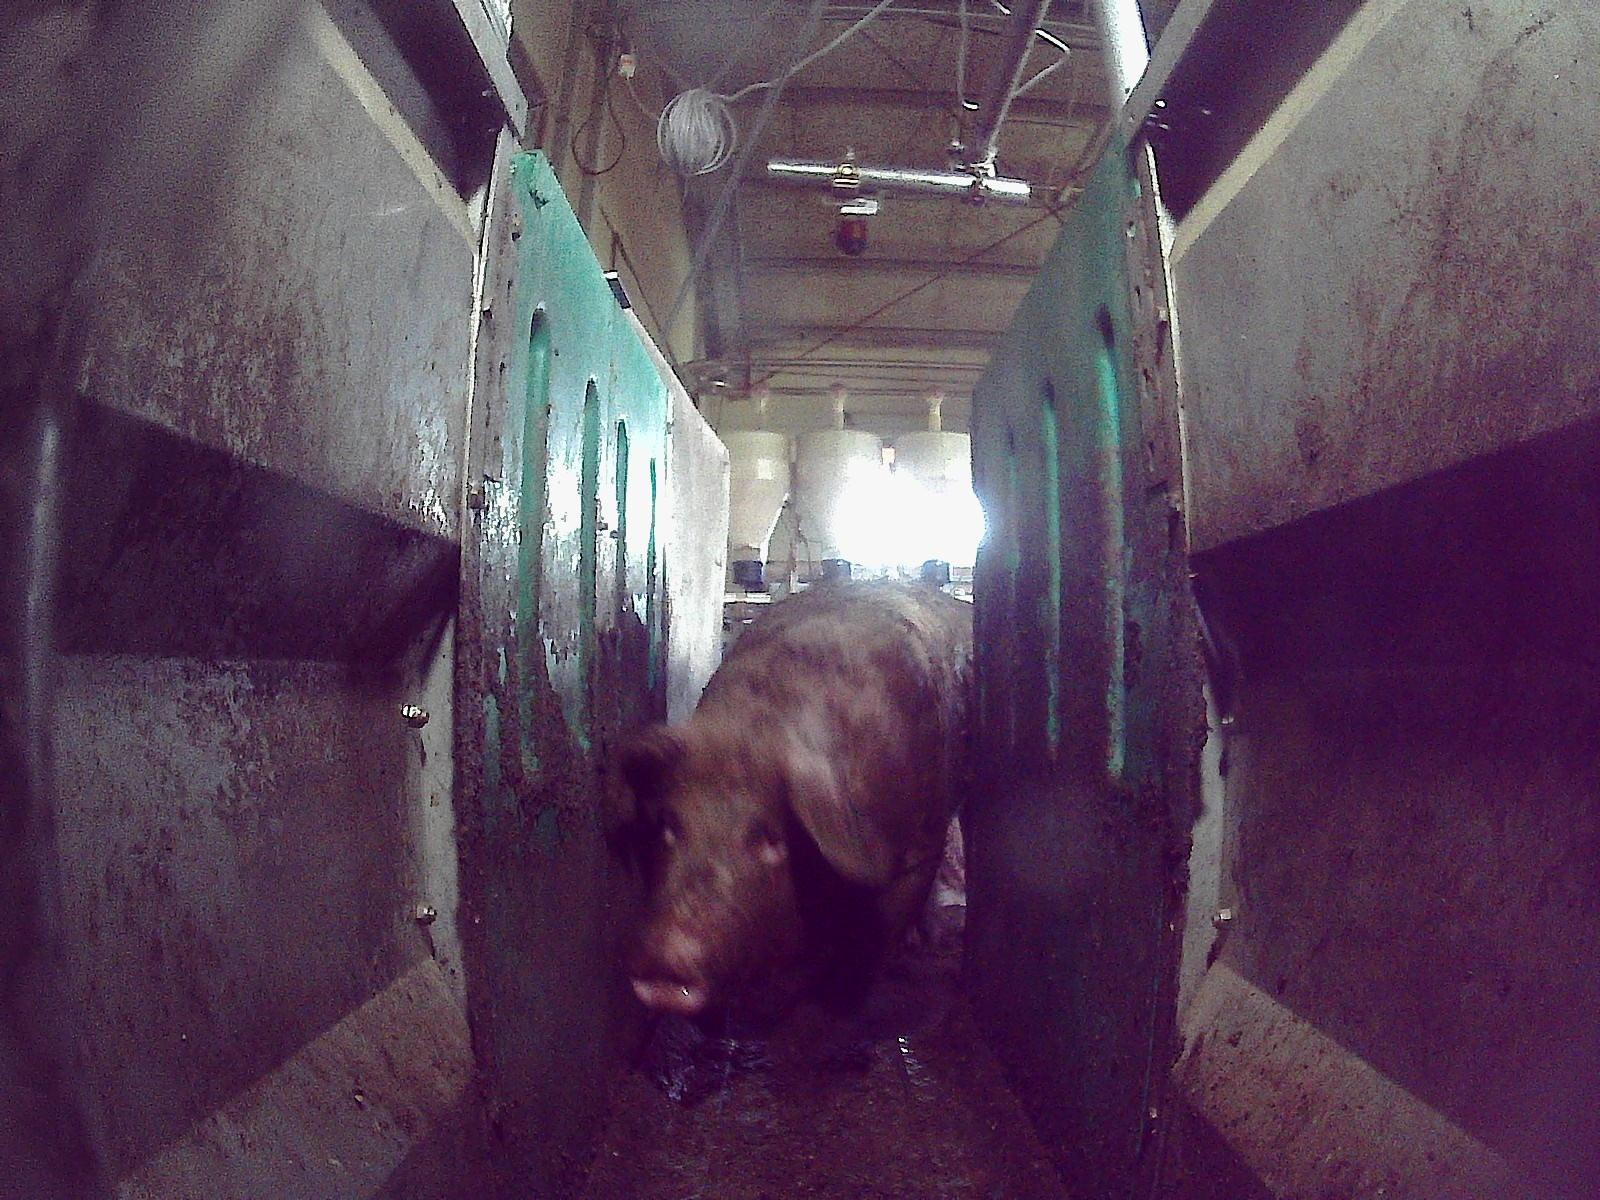Face: (629, 728, 804, 1012)
